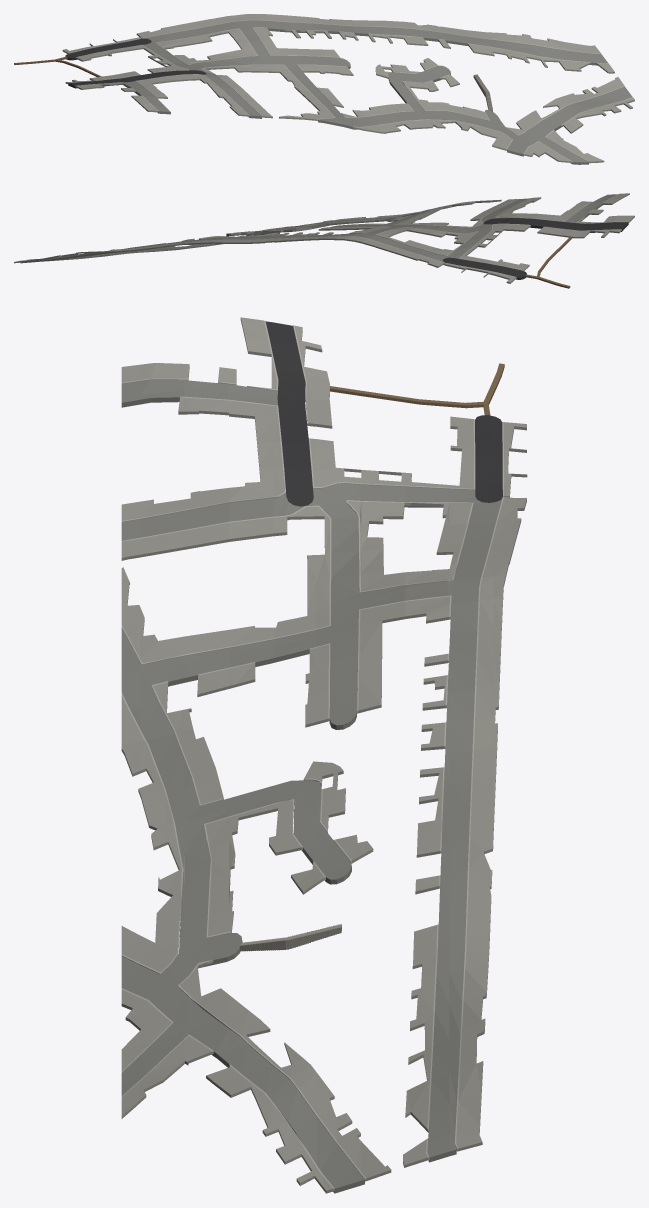
The picture shows the model from 3 angles, top to bottom: view 1: azimuth 30°, elevation 25°; view 2: azimuth 150°, elevation 25°; view 3: azimuth 270°, elevation 25°; orthographic projection. The views are drawn at different scales.
Size of the model in its own units: 293 by 83.49 by 91.91.
